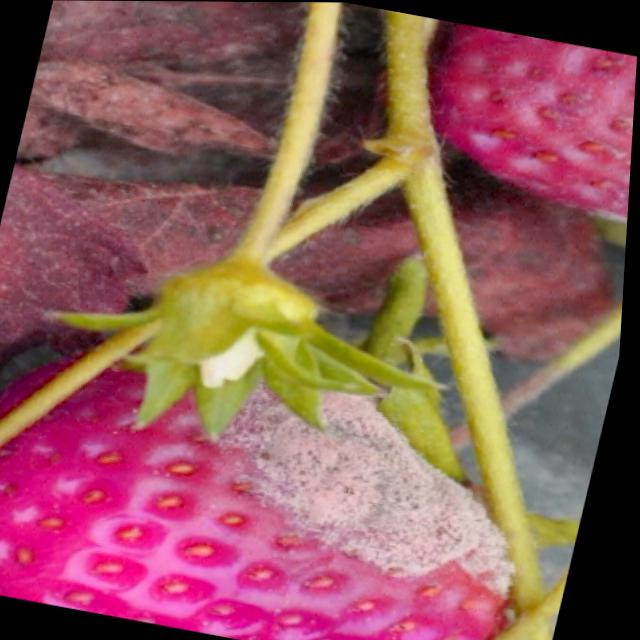Gray Mold: (83, 381, 523, 633)
